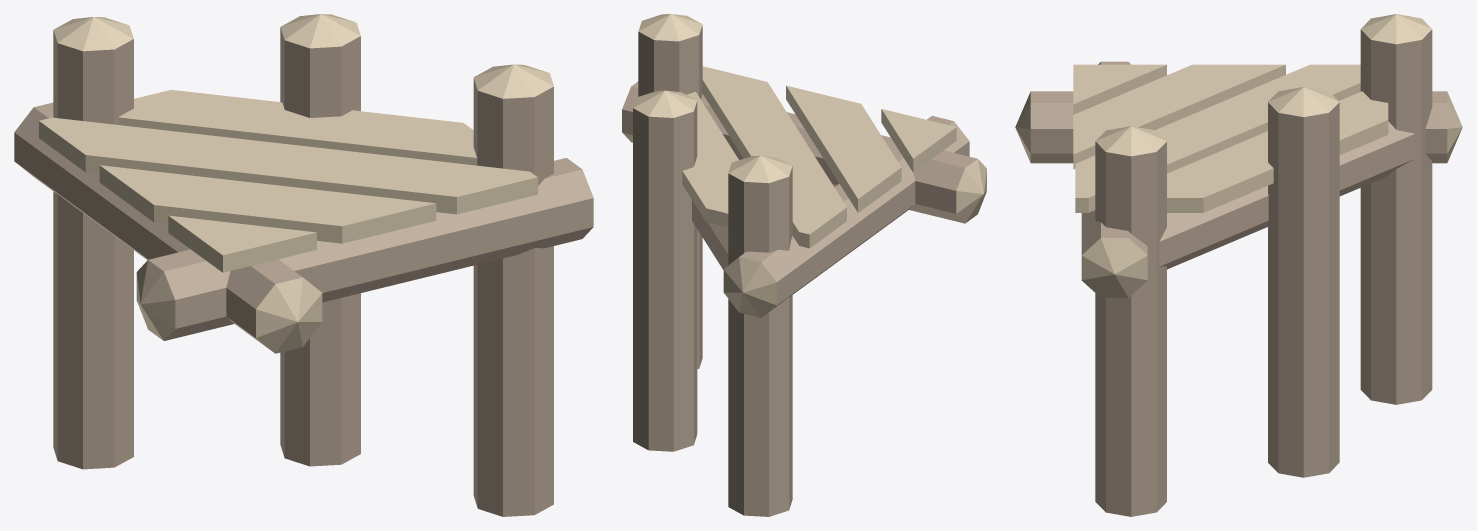
Rendered from Prop_Docks_Corner.glb.
The picture shows the model from 3 angles, left to right: view 1: azimuth 30°, elevation 25°; view 2: azimuth 150°, elevation 25°; view 3: azimuth 270°, elevation 25°; orthographic projection. The views are drawn at different scales.
Parts seen in each view (by area): view 1: object6, object8, object10, object3, object7, object9, object2, object4, object1; view 2: object7, object8, object3, object9, object2, object10, object6, object4, object1, object5; view 3: object7, object8, object6, object3, object2, object5, object4, object9, object10, object1.
Part boxes in pixels (x1,y1,x2,y2): object6: [473, 64, 553, 516]; object8: [53, 17, 133, 469]; object10: [136, 158, 593, 340]; object3: [39, 117, 537, 214]; object7: [280, 14, 360, 466]; object9: [14, 102, 322, 353]; object2: [99, 165, 436, 243]; object4: [118, 89, 476, 165]; object1: [168, 215, 316, 272]; object7: [633, 90, 697, 451]; object8: [728, 155, 792, 516]; object3: [702, 66, 846, 248]; object9: [723, 116, 969, 317]; object2: [786, 85, 901, 212]; object10: [622, 81, 986, 223]; object6: [638, 14, 702, 369]; object4: [682, 91, 738, 227]; object1: [881, 109, 956, 172]; object5: [692, 200, 728, 269]; object7: [1268, 87, 1339, 477]; object8: [1360, 14, 1432, 404]; object6: [1095, 126, 1166, 516]; object3: [1075, 64, 1360, 212]; object2: [1073, 64, 1285, 169]; object5: [1159, 121, 1415, 269]; object4: [1167, 91, 1388, 212]; object9: [1015, 91, 1462, 163]; object10: [1081, 61, 1147, 297]; object1: [1073, 64, 1166, 114].
Size of the model in its own units: 1.35 by 1.25 by 1.35.
